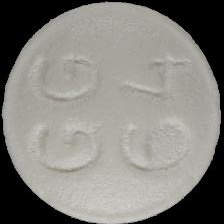21695-428: (0, 0, 224, 224)
